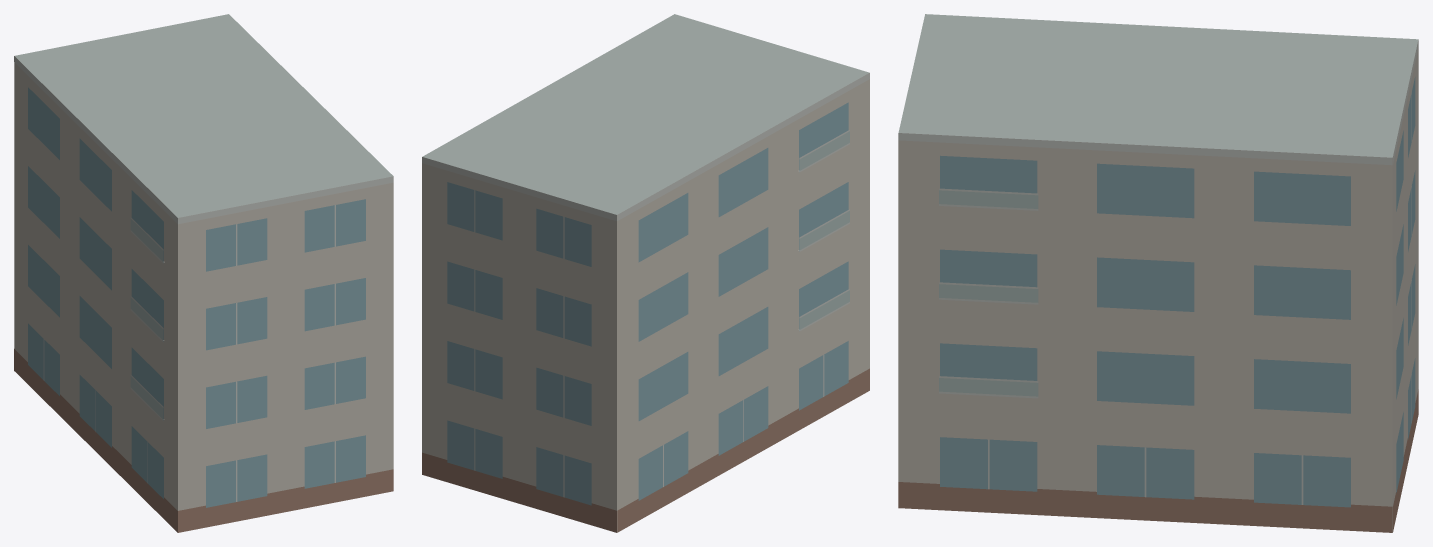
Rendered from survey-upis-32651621.glb.
3 renders of one model, left to right at view 1: azimuth 30°, elevation 25°; view 2: azimuth 150°, elevation 25°; view 3: azimuth 270°, elevation 25°, orthographic. The views are drawn at different scales.
Visible parts, largest first — view 1: survey-upis-32651621.tmp; view 2: survey-upis-32651621.tmp; view 3: survey-upis-32651621.tmp.
Boxes of the visible parts, x1,y1,x2,y2 form: survey-upis-32651621.tmp: (14,14,393,532); survey-upis-32651621.tmp: (422,14,869,532); survey-upis-32651621.tmp: (898,14,1418,532).
Bounding box in the file's own units: 10.03 × 12.2 × 15.34.
